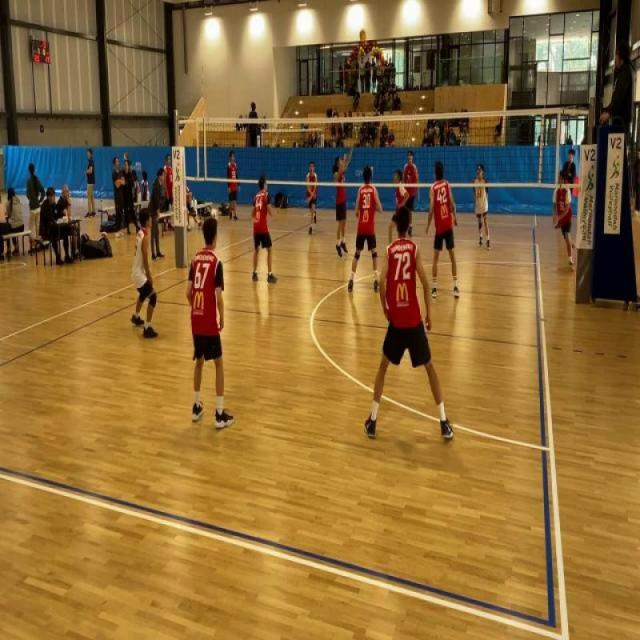volleyball: (359, 28, 367, 42), (100, 230, 108, 238)
